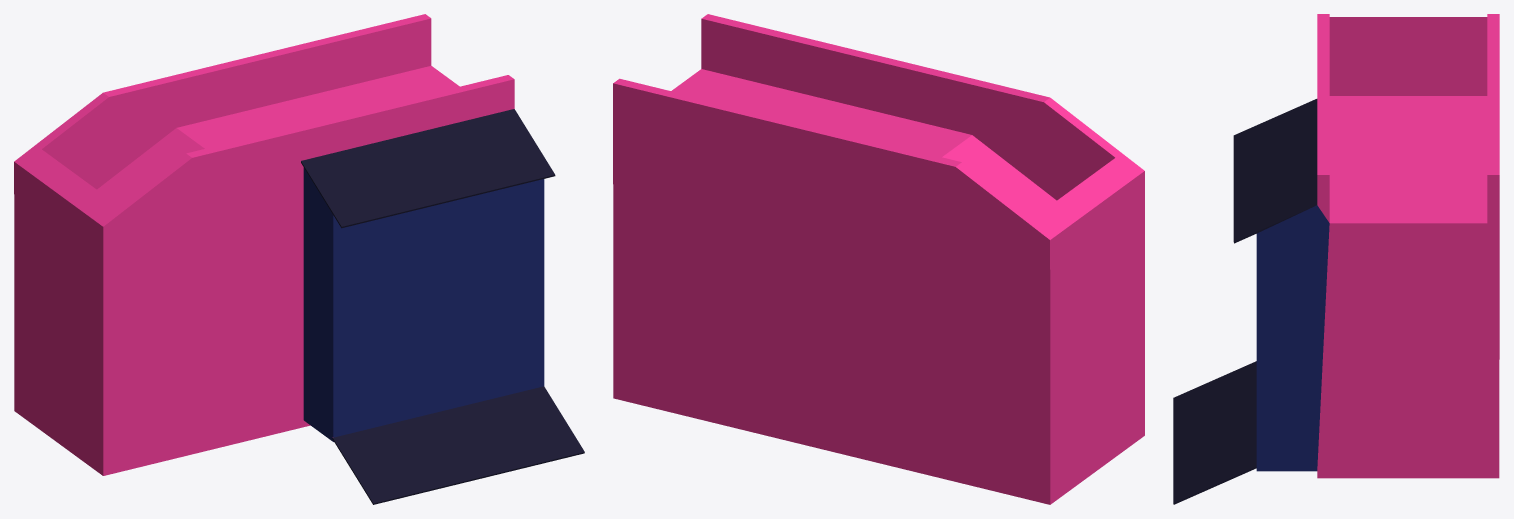
The picture shows the model from 3 angles, left to right: view 1: azimuth 30°, elevation 25°; view 2: azimuth 150°, elevation 25°; view 3: azimuth 270°, elevation 25°; orthographic projection. The views are drawn at different scales.
Visible parts, largest first — view 1: Mesh_0.017; view 2: Mesh_0.017; view 3: Mesh_0.017.
Boxes of the visible parts, <box> form: Mesh_0.017: <box>14,14,584,504</box>; Mesh_0.017: <box>613,14,1144,504</box>; Mesh_0.017: <box>1173,14,1499,504</box>.
Size of the model in its own units: 4 by 3 by 2.69.
